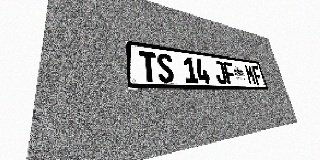1: (182, 56, 199, 83)
4: (194, 58, 210, 84)
F: (222, 62, 237, 84), (251, 65, 263, 85)
J: (213, 60, 228, 84)
M: (244, 64, 257, 85)
S: (156, 53, 175, 83)
T: (139, 51, 158, 82)
